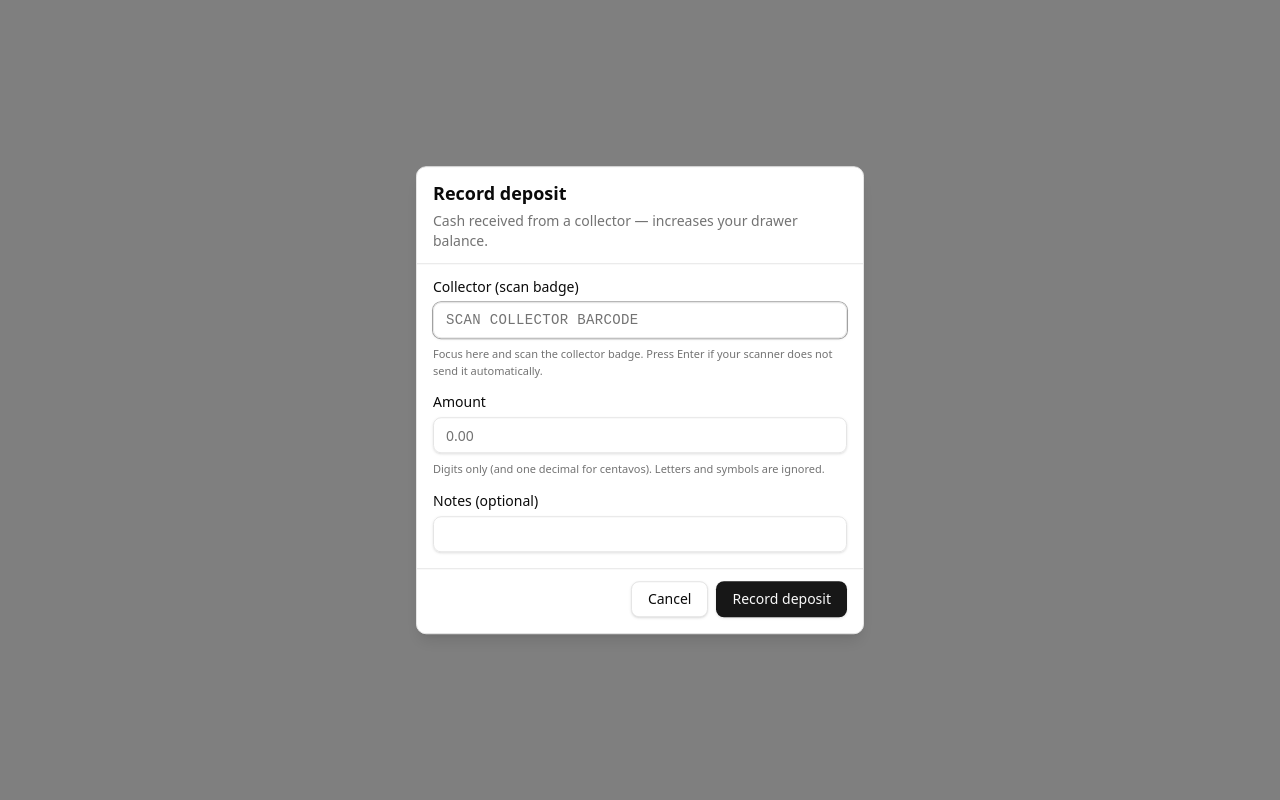
Test: TellerCashTransactionDialog › blocks submit when collector is not scanned
Click the button "Record deposit" at (782, 599), box [716, 581, 847, 617]
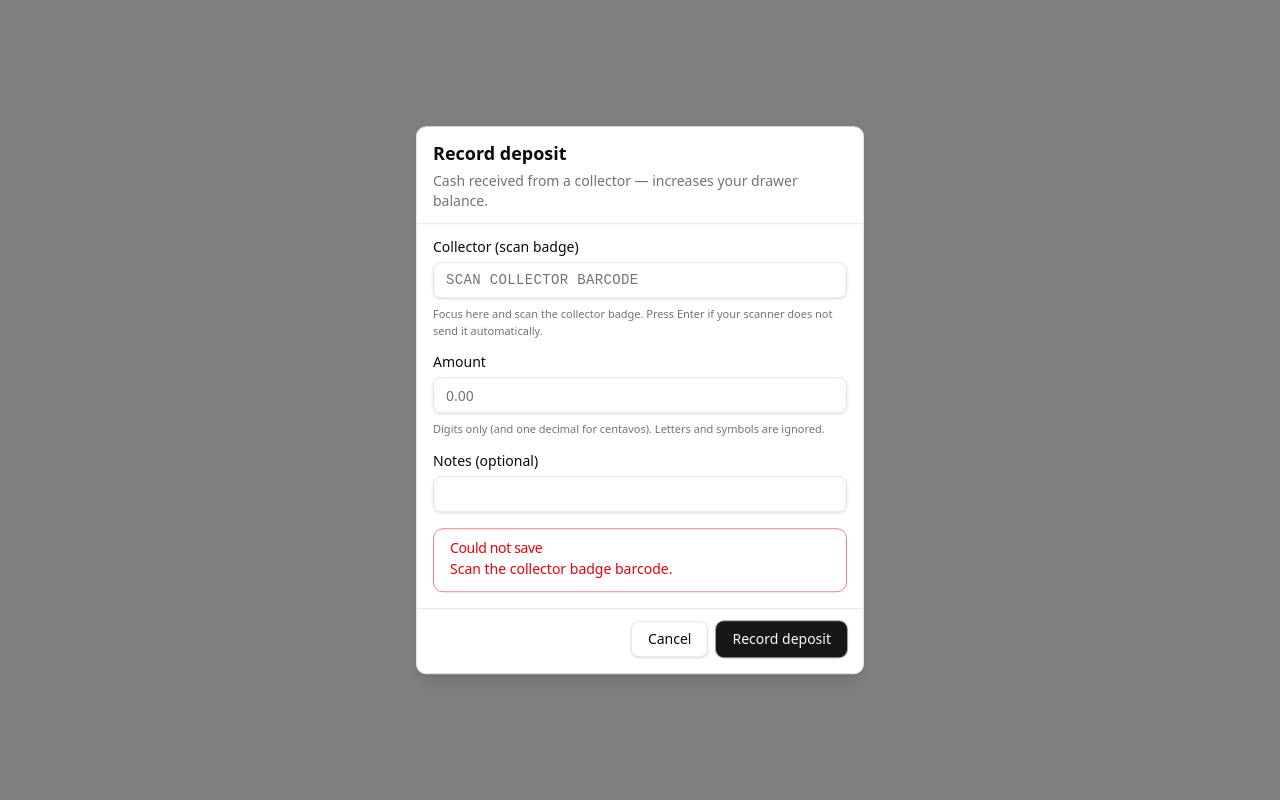
Expected: the message shows "Scan the collector badge", [450, 559, 672, 578]
